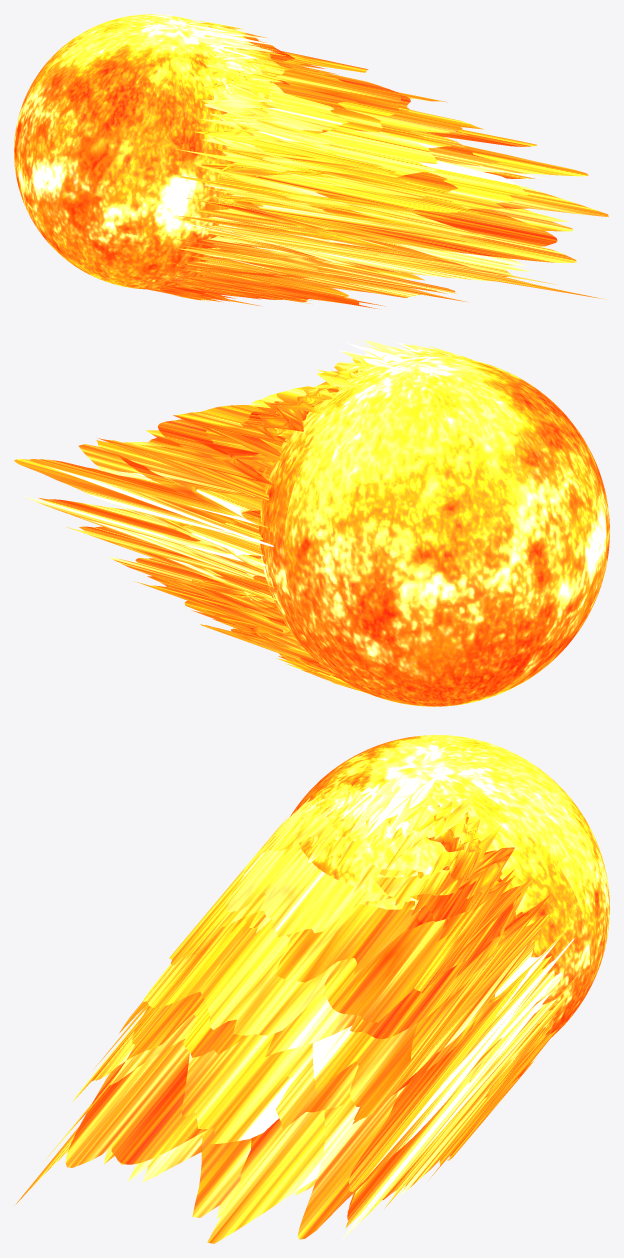
Rendered from phoenix_suns_promotional_collaboration.glb.
3 views of the same model, one above another, from view 1: azimuth 30°, elevation 25°; view 2: azimuth 150°, elevation 25°; view 3: azimuth 270°, elevation 25° (orthographic). The views are drawn at different scales.
Visible parts, largest first — view 1: Object_2; view 2: Object_2; view 3: Object_2.
Part boxes in pixels (x1,y1,x2,y2): Object_2: (14, 14, 608, 309); Object_2: (14, 340, 609, 706); Object_2: (15, 735, 609, 1243).
Size of the model in its own units: 8.42 by 4.33 by 6.89.
1 material, 1 textured.
